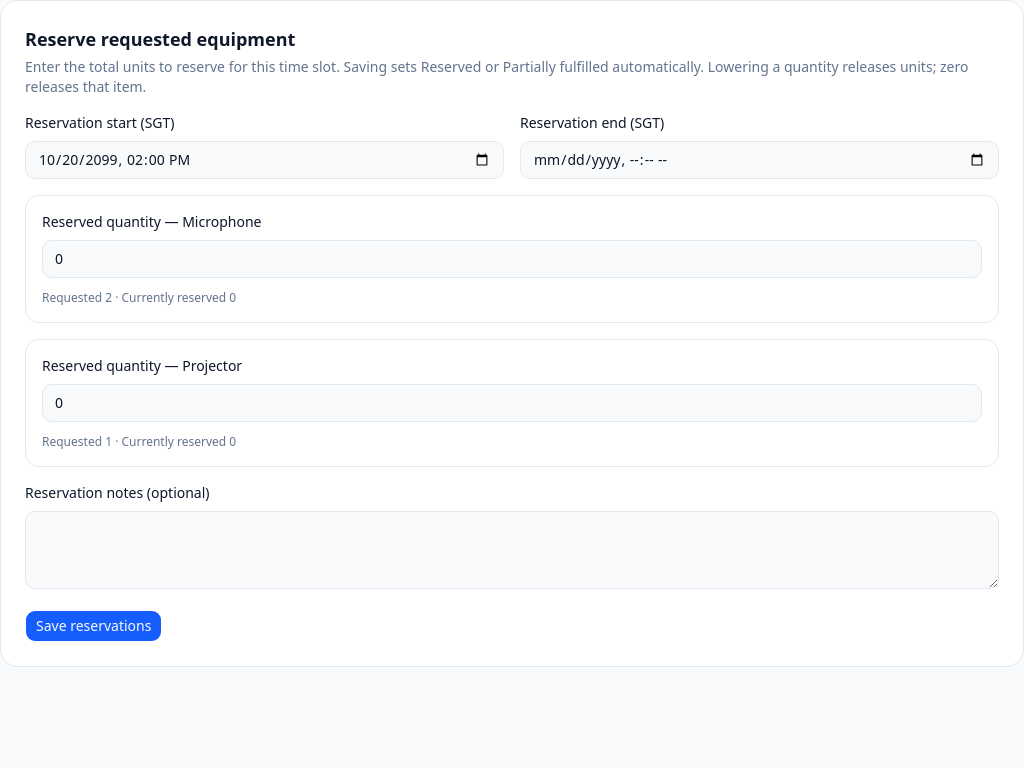
Test: refuses a backwards time interval without writing
In the field labelled "Reservation end (SGT)": (760, 160) [520,141,999,179], type "2000-01-01T00:00"
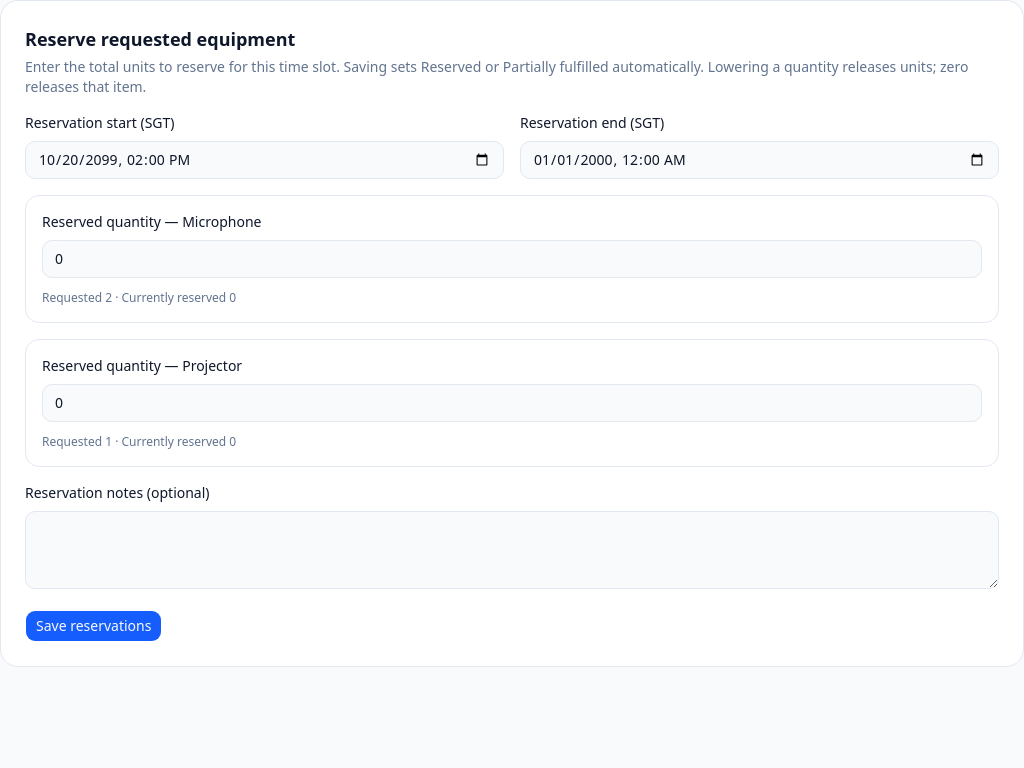
Submit the form "Reserve requested equipment"
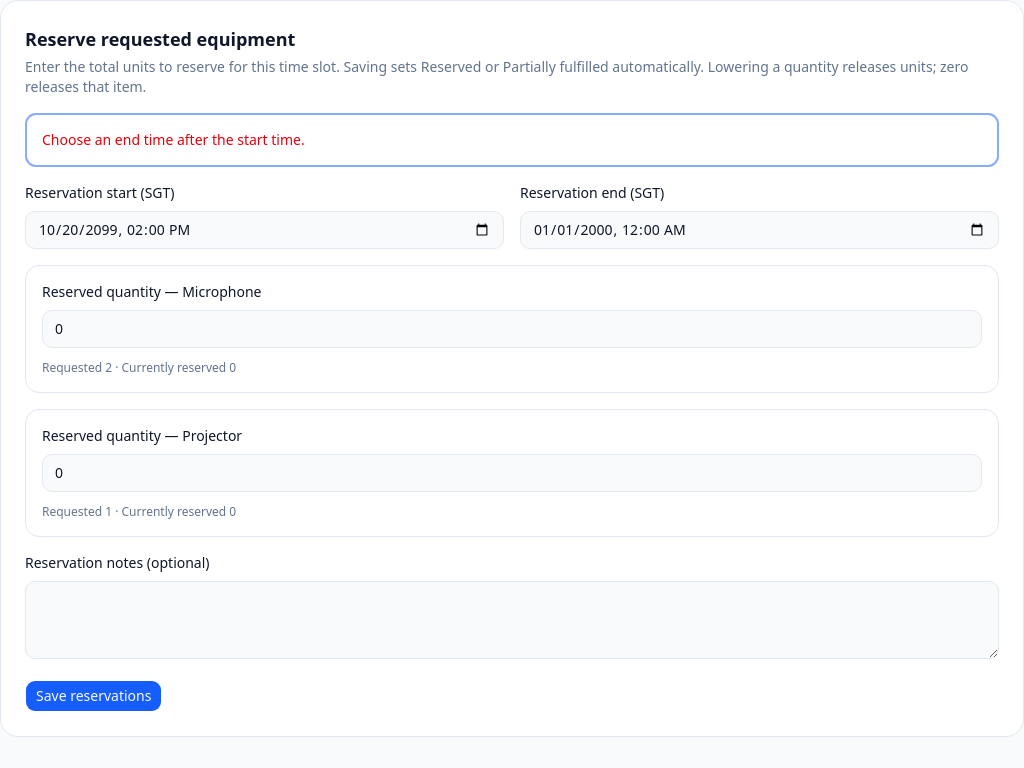
Expected: the message shows "after the start", [42,130,305,149]
